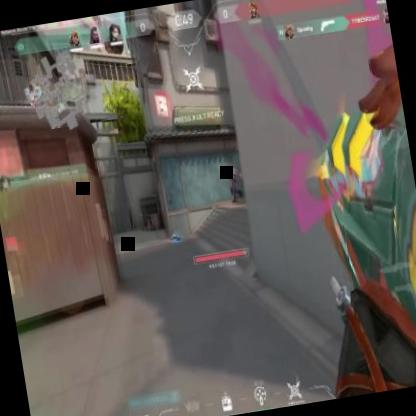enemy: (223, 158, 243, 205)
enemy_head: (228, 160, 232, 168)
